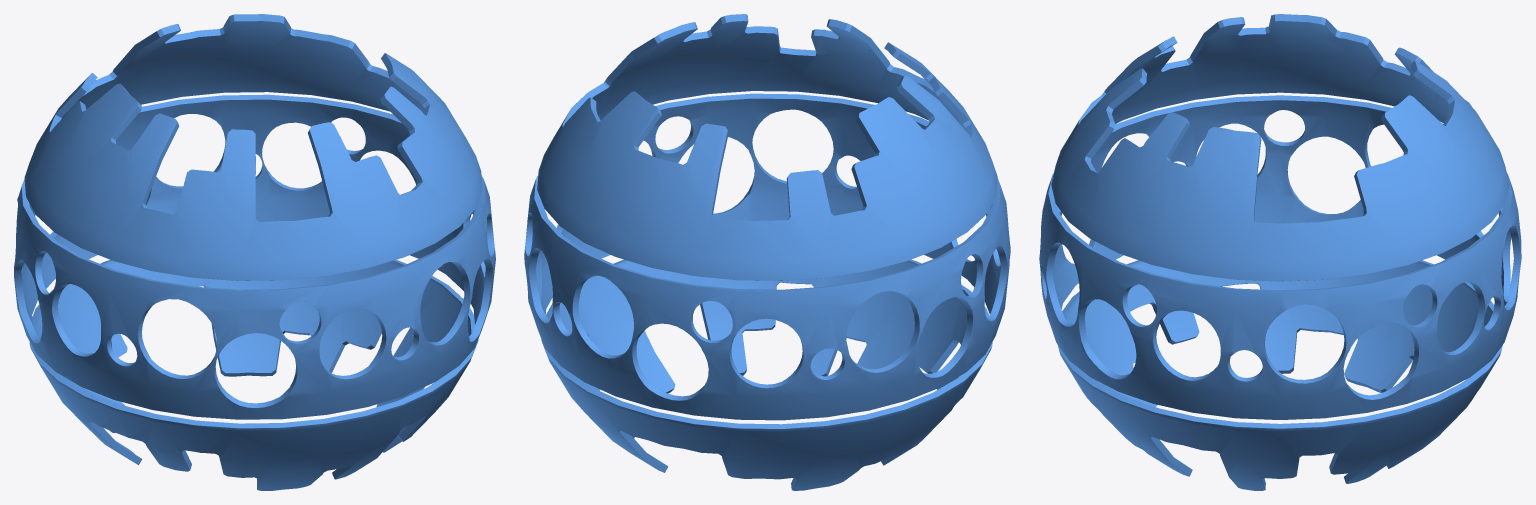
File: Shell5.fbx
3 renders of one model, left to right at view 1: azimuth 30°, elevation 25°; view 2: azimuth 150°, elevation 25°; view 3: azimuth 270°, elevation 25°, orthographic.
Parts seen in each view (by area): view 1: Sphere.001; view 2: Sphere.001; view 3: Sphere.001.
Boxes of the visible parts, box(x1,y1,x2,y2) form: Sphere.001: box(14, 14, 495, 490); Sphere.001: box(524, 14, 1010, 490); Sphere.001: box(1039, 14, 1521, 490).
Bounding box in the file's own units: 199 × 165 × 199.
